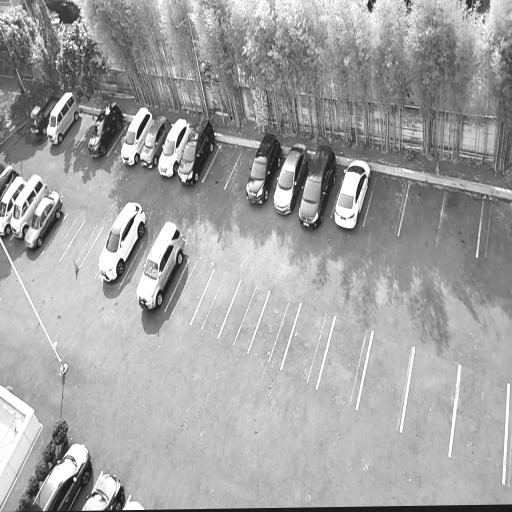Car: (128, 217, 192, 319), (91, 192, 153, 287), (26, 434, 97, 511), (292, 140, 342, 230), (266, 136, 313, 222), (239, 126, 288, 207), (330, 151, 376, 232), (174, 112, 221, 189), (21, 182, 67, 257), (9, 171, 52, 240), (85, 97, 128, 160), (116, 103, 156, 170), (43, 86, 84, 148), (155, 114, 194, 179), (79, 465, 129, 511), (137, 111, 174, 171), (0, 175, 29, 239), (27, 90, 61, 138), (0, 162, 21, 202), (121, 493, 148, 510)
Space Available: (450, 365, 508, 484), (400, 343, 459, 454), (357, 331, 414, 430), (317, 314, 373, 406), (281, 302, 335, 388), (247, 291, 301, 367), (219, 278, 270, 352), (190, 268, 241, 337), (436, 190, 484, 256), (165, 260, 214, 321), (398, 182, 445, 244), (364, 176, 410, 234), (477, 197, 512, 265), (59, 218, 104, 267), (41, 212, 85, 261), (202, 143, 243, 188), (118, 241, 152, 294), (79, 227, 111, 273), (225, 148, 256, 191), (62, 112, 97, 148), (107, 121, 132, 158), (76, 116, 97, 151)
